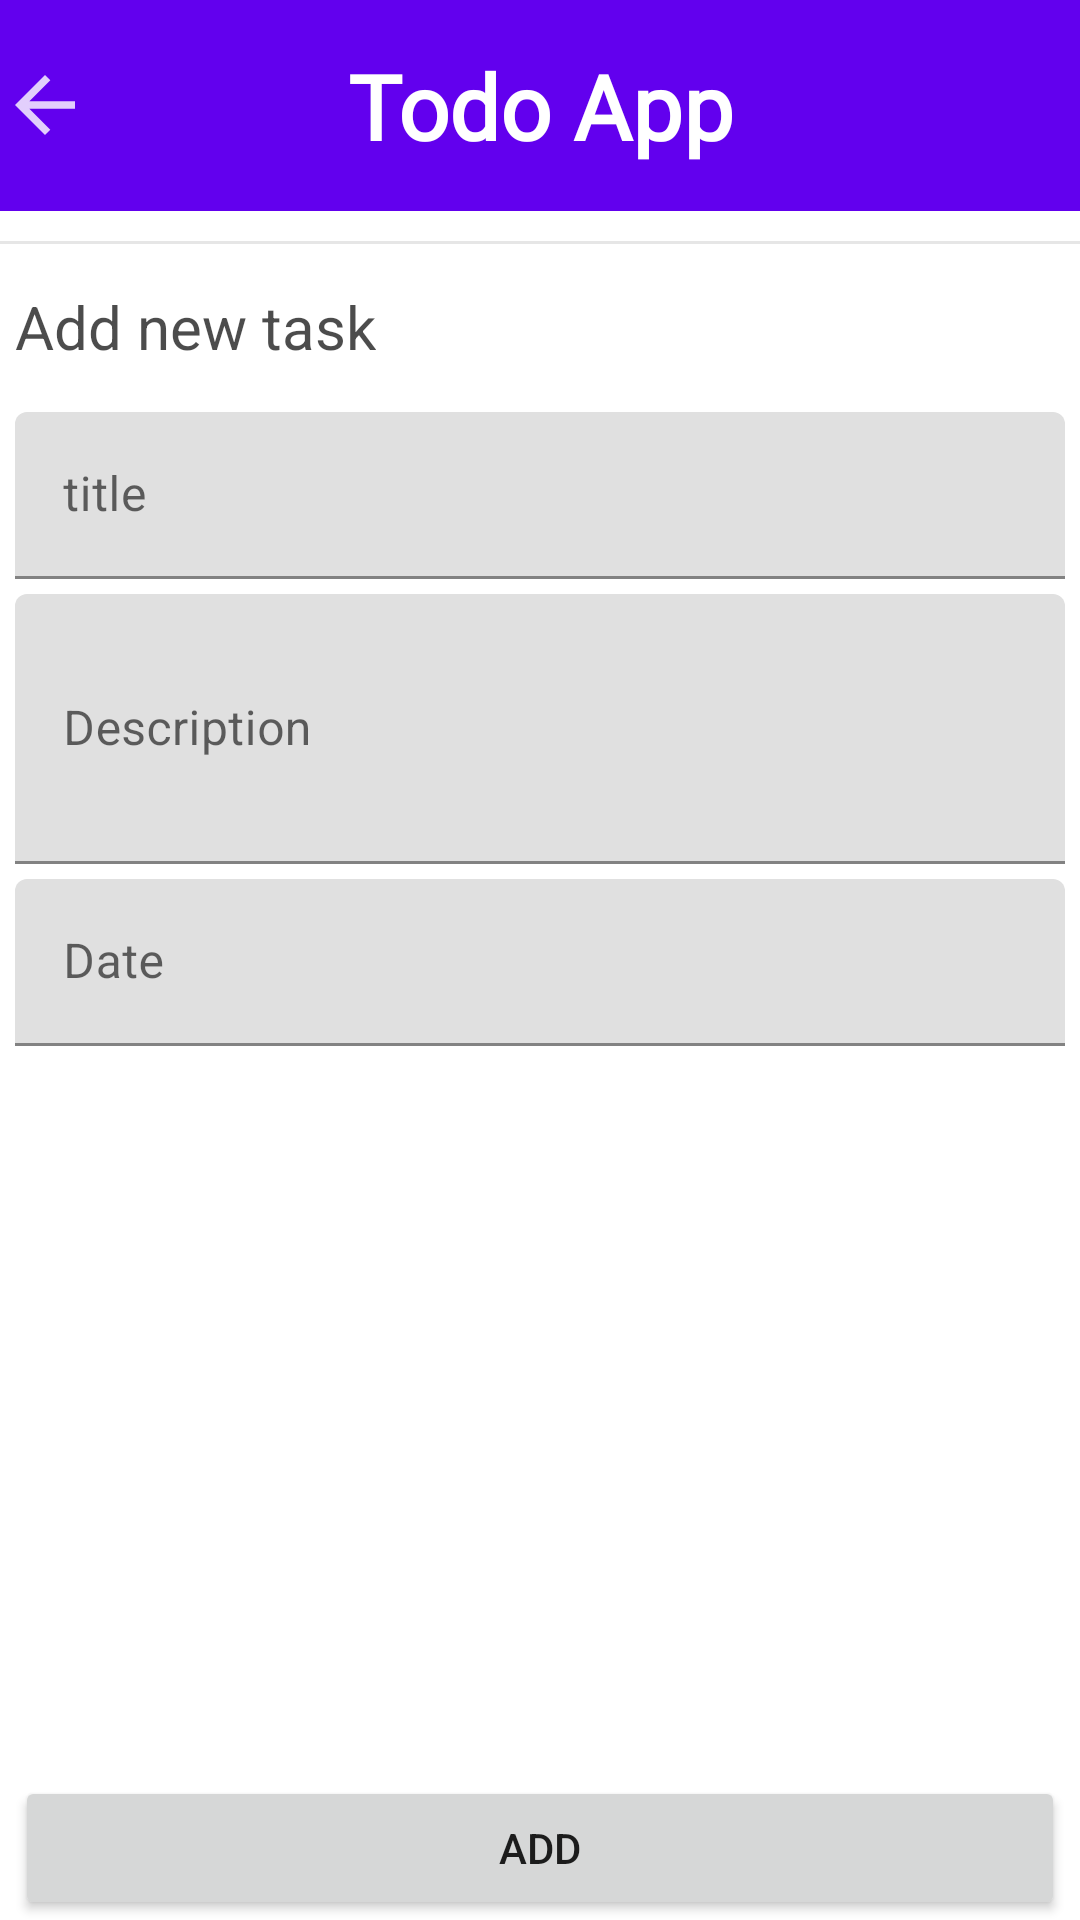

Icons on this 1080w x 1920h Android screen, each with its box as (x1, y1, x2, y2):
back: (15, 75, 75, 135)
